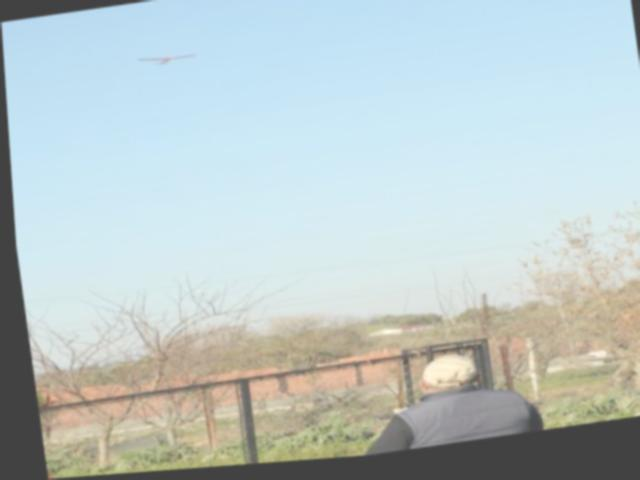iha: (137, 53, 195, 68)
